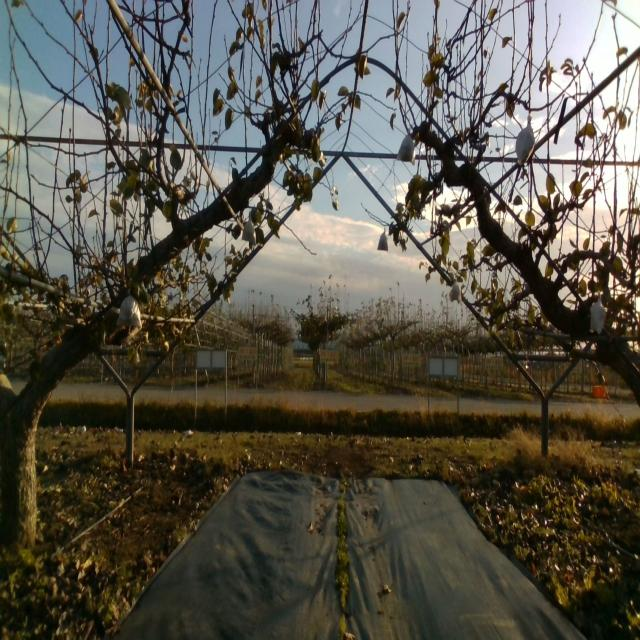pearbags: (514, 112, 535, 166), (118, 288, 142, 331), (396, 130, 414, 166), (590, 296, 607, 334), (241, 214, 258, 245), (448, 281, 462, 302), (377, 226, 388, 249)
